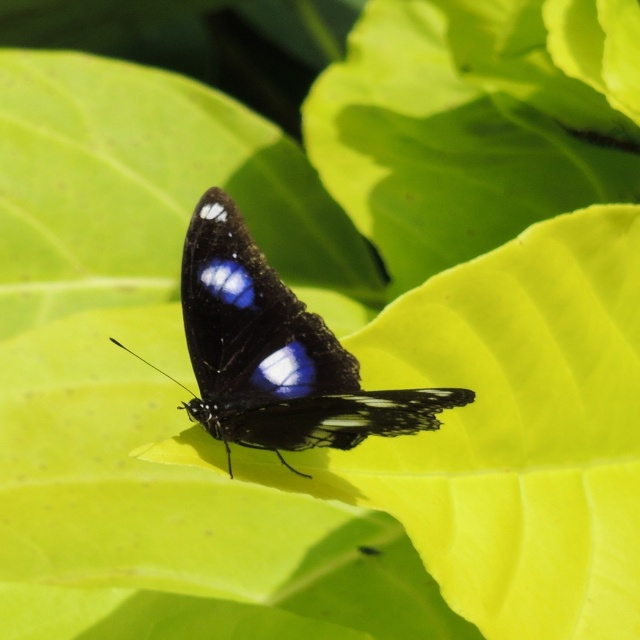Butterfly: (131, 184, 472, 504)
